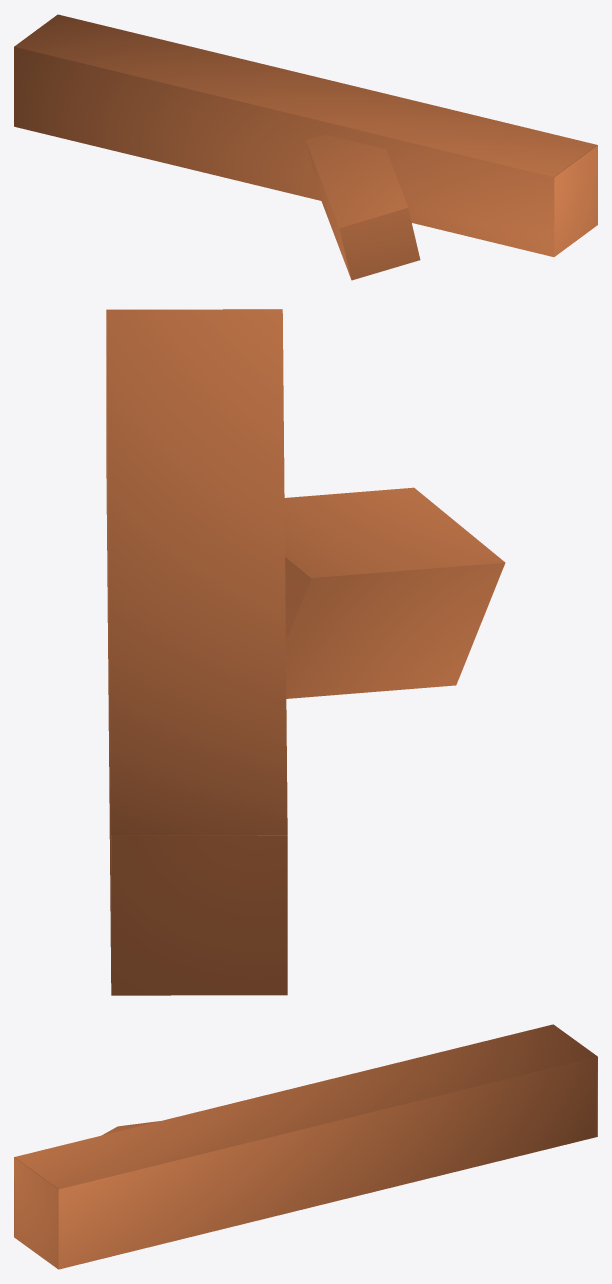
File: cooking_pile.glb
3 renders of one model, top to bottom at view 1: azimuth 30°, elevation 25°; view 2: azimuth 150°, elevation 25°; view 3: azimuth 270°, elevation 25°, orthographic. The views are drawn at different scales.
Parts seen in each view (by area): view 1: log.024; view 2: log.024; view 3: log.024.
Part boxes in pixels (bbox=[...]): log.024: bbox=[14, 14, 597, 280]; log.024: bbox=[106, 309, 505, 995]; log.024: bbox=[14, 1024, 597, 1269].
Size of the model in its own units: 0.3195 by 0.0998 by 0.4775.
Materials: 1 (1 with a texture image).
